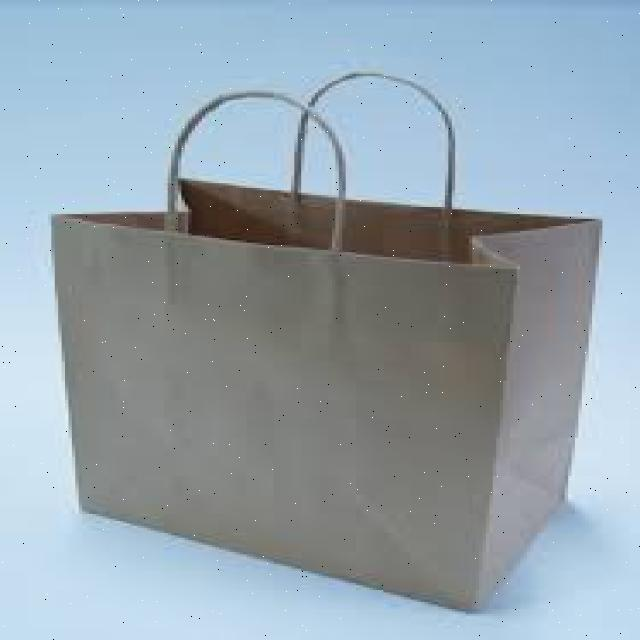paper bag: (38, 172, 611, 628)
